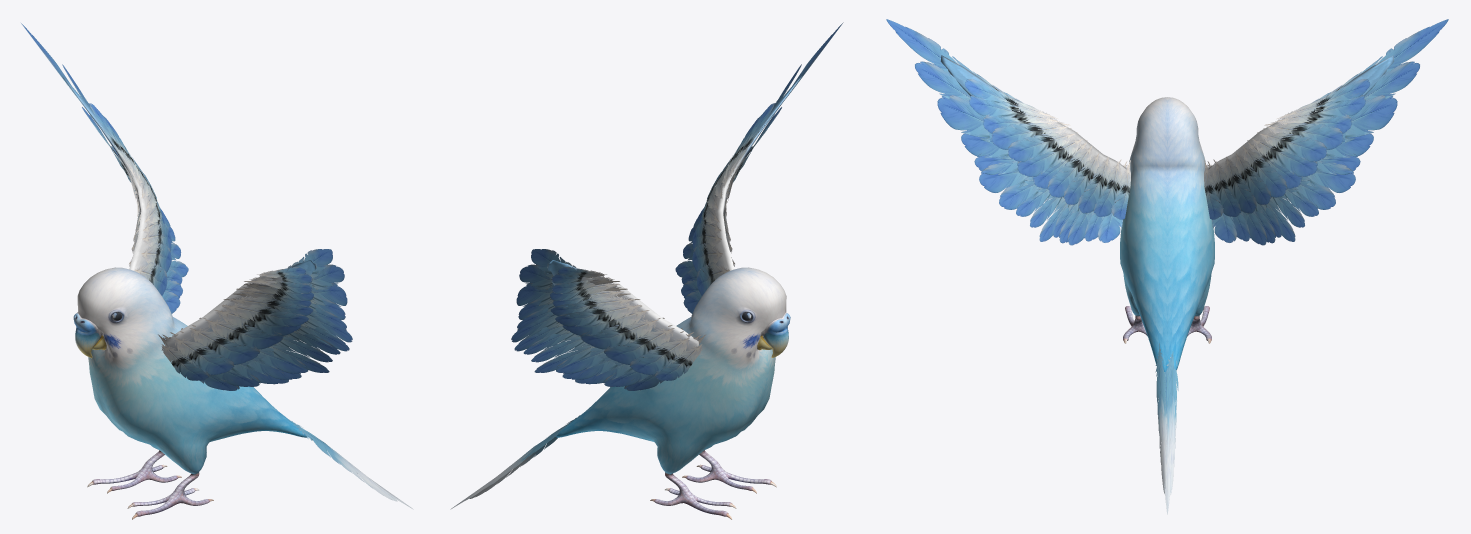
Rendered from Parrot_noRig.fbx.
The picture shows the model from 3 angles, left to right: view 1: azimuth 30°, elevation 25°; view 2: azimuth 150°, elevation 25°; view 3: azimuth 270°, elevation 25°; orthographic projection. The views are drawn at different scales.
Visible parts, largest first — view 1: Body.001, Wing_Mid, Wing_Down, Wing_Up, Wing_Main; view 2: Body.001, Wing_Mid, Wing_Down, Wing_Up, Wing_Main; view 3: Body.001, Wing_Mid, Wing_Up, Wing_Main.
Boxes of the visible parts, x1,y1,x2,y2 form: Body.001: [73, 267, 413, 519]; Wing_Mid: [21, 23, 352, 390]; Wing_Down: [82, 107, 313, 380]; Wing_Up: [89, 103, 285, 338]; Wing_Main: [62, 76, 316, 356]; Body.001: [450, 267, 790, 519]; Wing_Mid: [511, 22, 843, 390]; Wing_Down: [550, 107, 781, 380]; Wing_Up: [578, 103, 774, 338]; Wing_Main: [547, 76, 801, 356]; Body.001: [1120, 97, 1214, 514]; Wing_Mid: [886, 19, 1448, 245]; Wing_Up: [964, 79, 1370, 219]; Wing_Main: [940, 55, 1394, 194].
Bounding box in the file's own units: 852 × 1049 × 1380.
3 materials, 3 textured.
